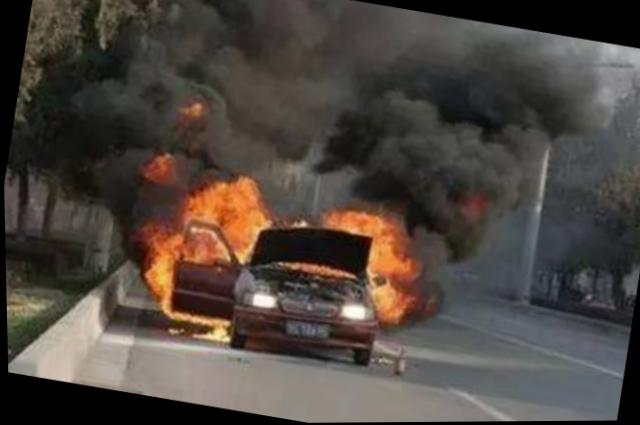fire: (118, 135, 446, 376)
